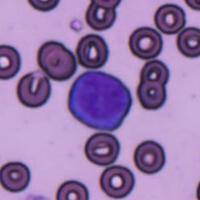L: (68, 69, 132, 132)
